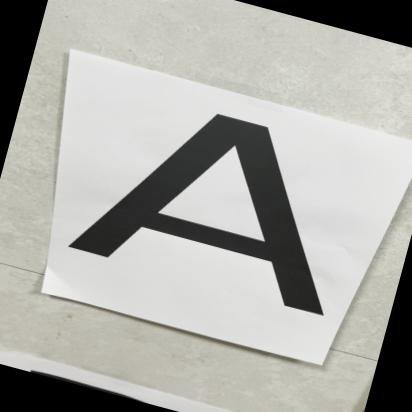seat: (50, 68, 384, 342)
